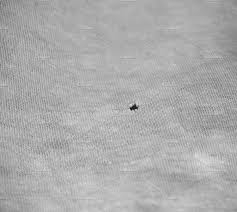Hole: (108, 91, 166, 125)
